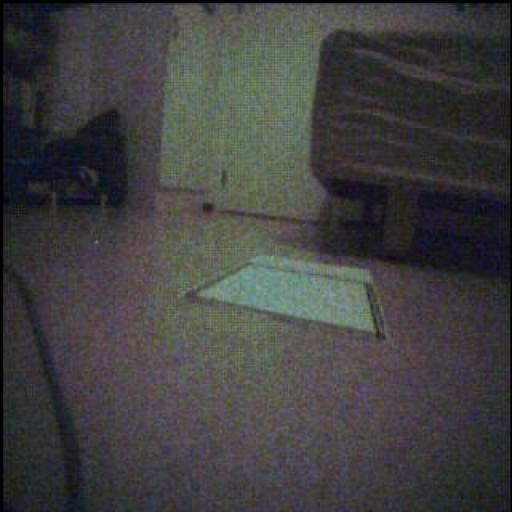pad: (187, 257, 388, 340)
